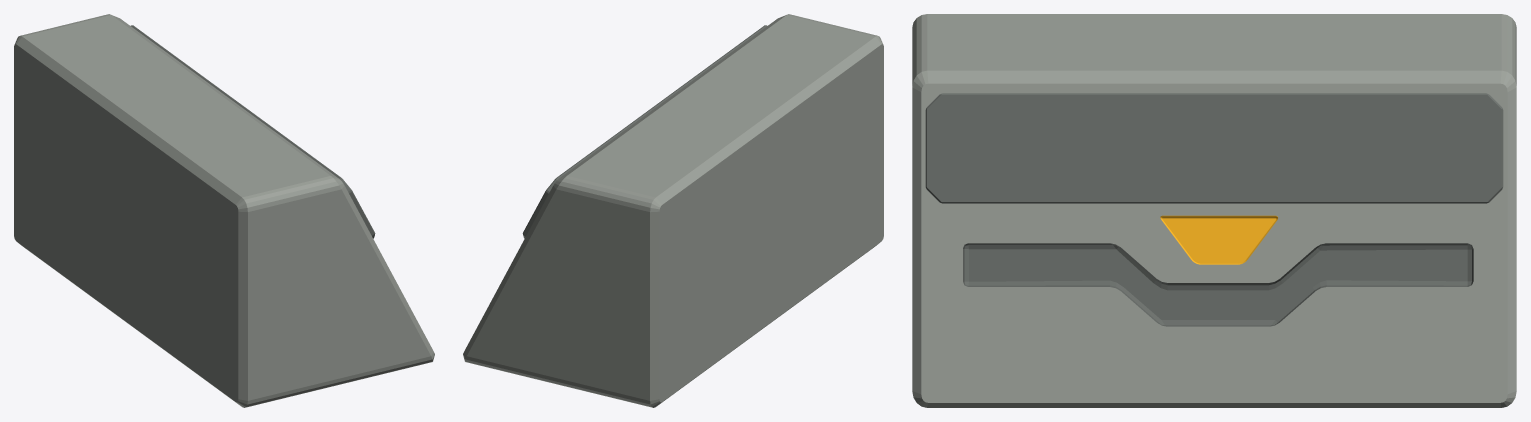
File: Env_Wall_SpaceStation_Panel_Straight_1x2.fbx
3 renders of one model, left to right at view 1: azimuth 30°, elevation 25°; view 2: azimuth 150°, elevation 25°; view 3: azimuth 270°, elevation 25°, orthographic. The views are drawn at different scales.
Visible parts, largest first — view 1: Wall1; view 2: Wall1; view 3: Wall1.
Boxes of the visible parts, box(x1,y1,x2,y2) form: Wall1: box(14, 14, 434, 407); Wall1: box(463, 14, 883, 407); Wall1: box(912, 14, 1516, 407).
Bounding box in the file's own units: 98.82 × 100 × 200.
